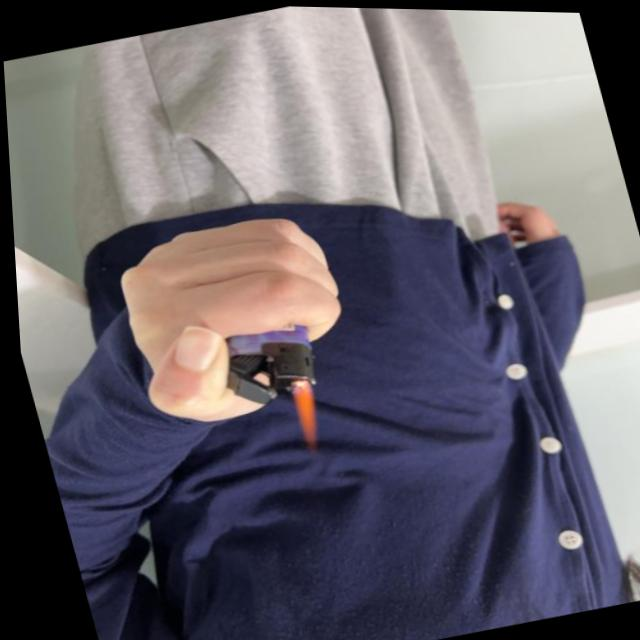Fire: (282, 371, 327, 448)
